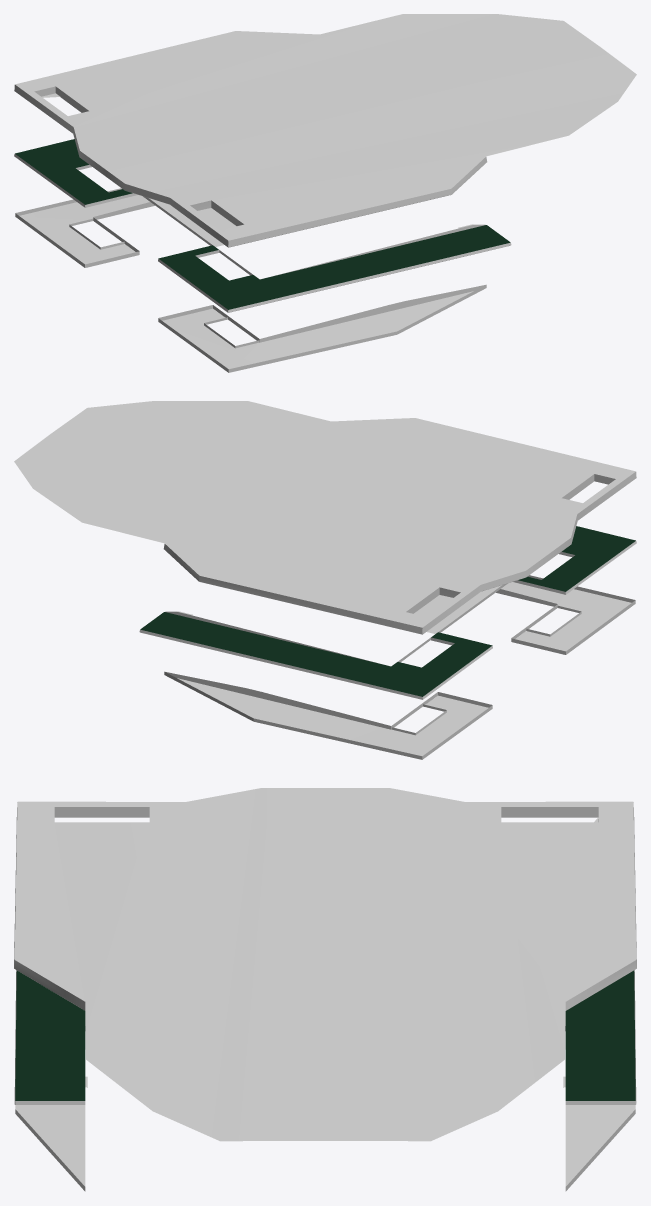
File: Floorss.fbx
The picture shows the model from 3 angles, top to bottom: view 1: azimuth 30°, elevation 25°; view 2: azimuth 150°, elevation 25°; view 3: azimuth 270°, elevation 25°; orthographic projection. The views are drawn at different scales.
Parts seen in each view (by area): view 1: Control tower_White_0.028, Control tower_White_0.173, Control tower_Floor_0.004; view 2: Control tower_White_0.028, Control tower_White_0.173, Control tower_Floor_0.004; view 3: Control tower_White_0.028, Control tower_Floor_0.004, Control tower_White_0.173.
Part boxes in pixels (x1,y1,x2,y2): Control tower_White_0.028: (15,14,636,240); Control tower_White_0.173: (14,85,511,372); Control tower_Floor_0.004: (15,139,510,309); Control tower_White_0.028: (14,401,635,627); Control tower_White_0.173: (139,472,636,759); Control tower_Floor_0.004: (140,526,635,696); Control tower_White_0.028: (14,788,636,1141); Control tower_Floor_0.004: (15,970,635,1100); Control tower_White_0.173: (14,807,636,1191).
Size of the model in its own units: 2040 by 525 by 1531.
